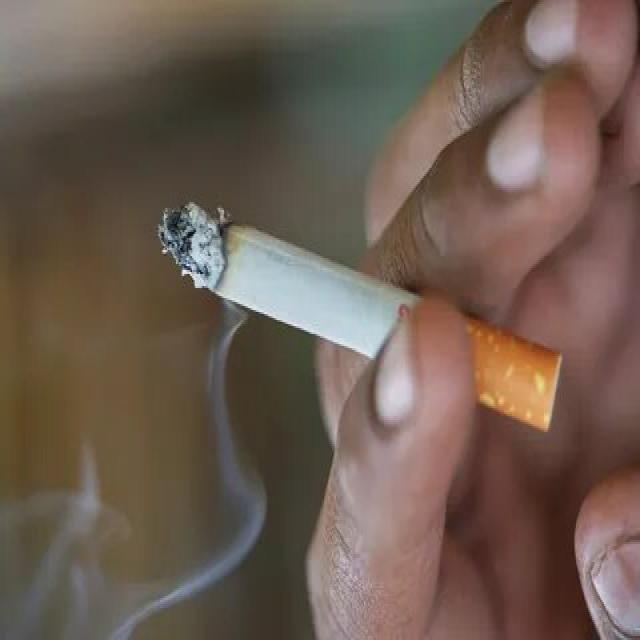smoke: (154, 198, 568, 438)
